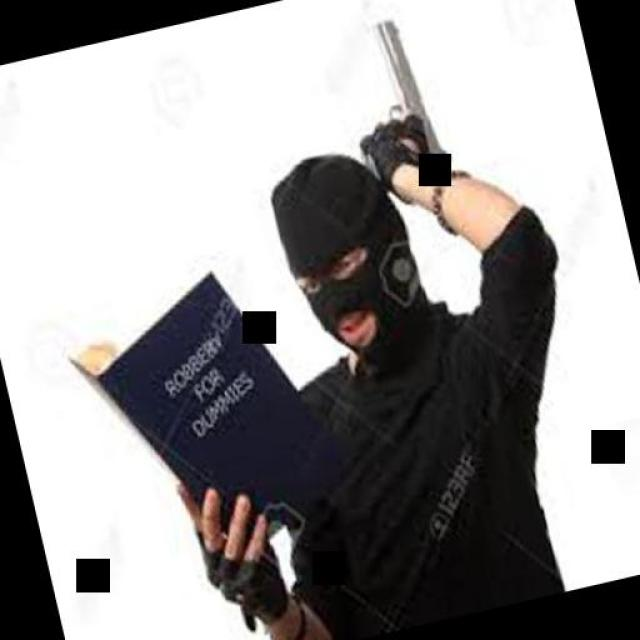gun: (332, 8, 456, 198)
